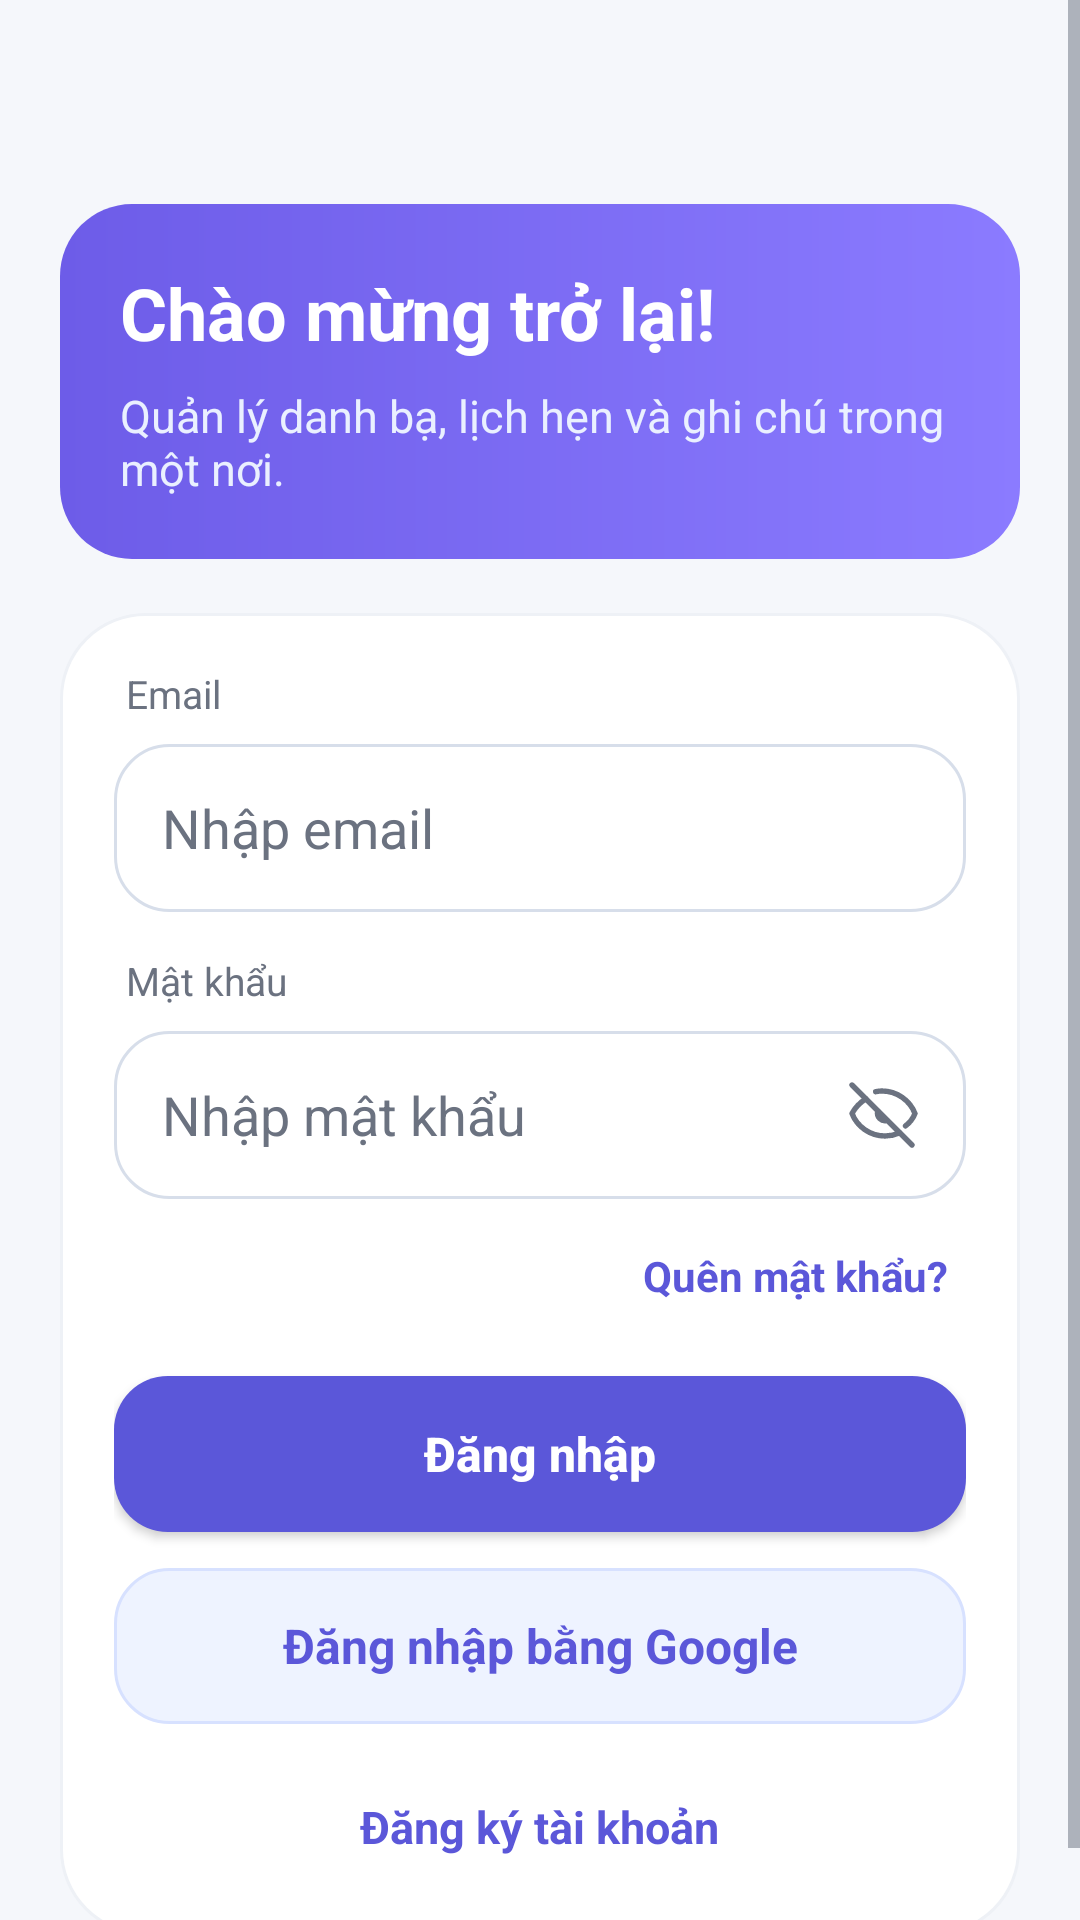

Icons on this 1080x1920 Android screen, each with its box as (x1, y1, x2, y2):
Hiện hoặc ẩn mật khẩu: (849, 1082, 918, 1148)
